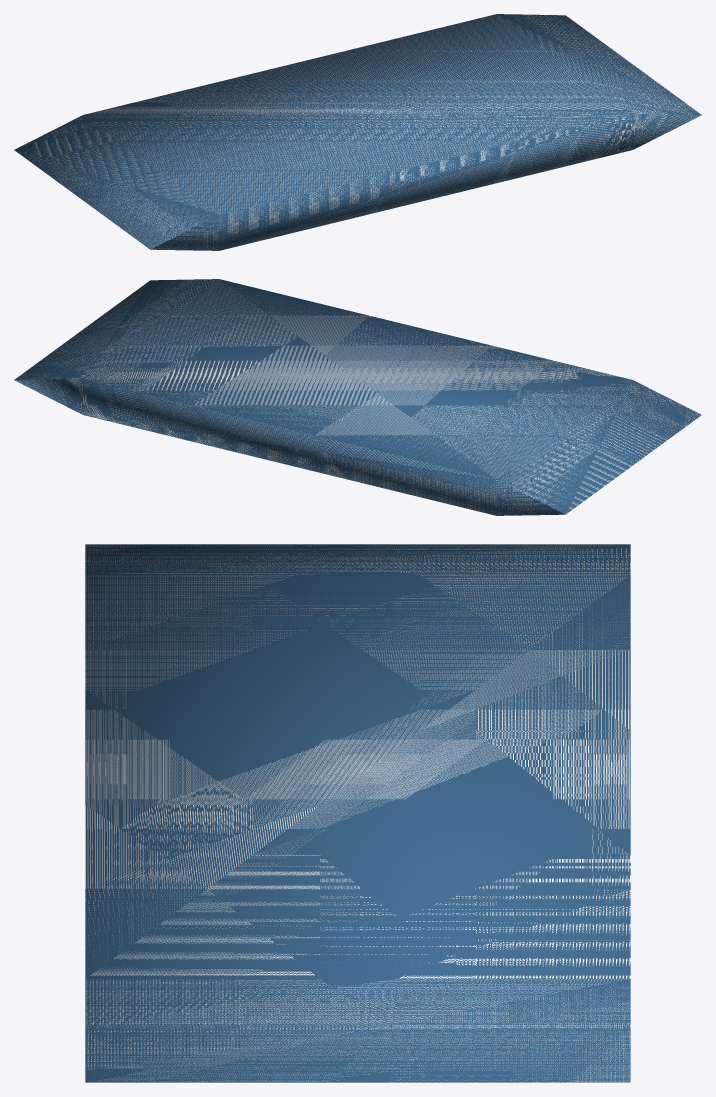
3 views of the same model, one above another, from view 1: azimuth 30°, elevation 25°; view 2: azimuth 150°, elevation 25°; view 3: azimuth 270°, elevation 25° (orthographic). The views are drawn at different scales.
Visible parts, largest first — view 1: mesh1_mesh1-geometry; view 2: mesh1_mesh1-geometry; view 3: mesh1_mesh1-geometry.
Part boxes in pixels (x1,y1,x2,y2): mesh1_mesh1-geometry: [14, 14, 701, 250]; mesh1_mesh1-geometry: [14, 279, 701, 515]; mesh1_mesh1-geometry: [85, 544, 630, 1082].
Bounding box in the file's own units: 0.9179 × 0.0576 × 0.3926.
